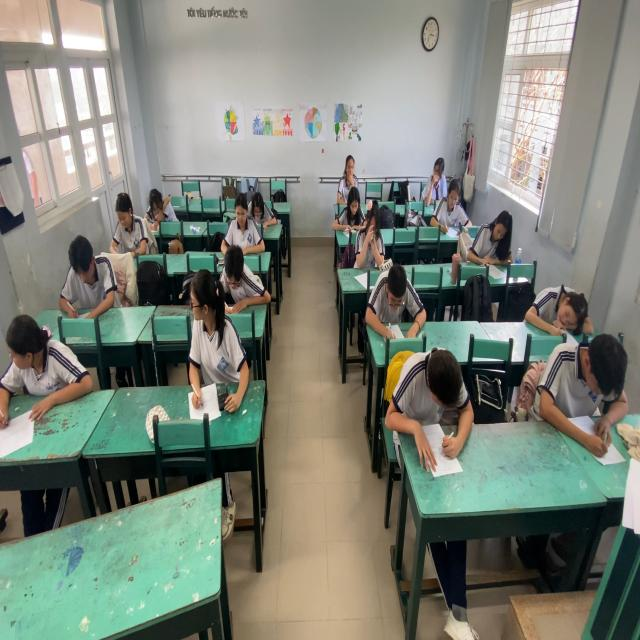cheating: (0, 315, 87, 412), (182, 264, 238, 391)
not_cheating: (546, 336, 635, 430), (404, 336, 466, 423), (525, 271, 596, 329), (64, 229, 112, 308), (365, 264, 421, 329), (108, 190, 153, 260), (466, 208, 521, 264), (219, 240, 264, 301), (357, 202, 390, 266), (223, 191, 258, 250), (144, 178, 172, 236), (439, 178, 468, 232), (339, 188, 365, 236), (425, 160, 451, 208), (248, 195, 278, 229), (340, 149, 359, 198)
